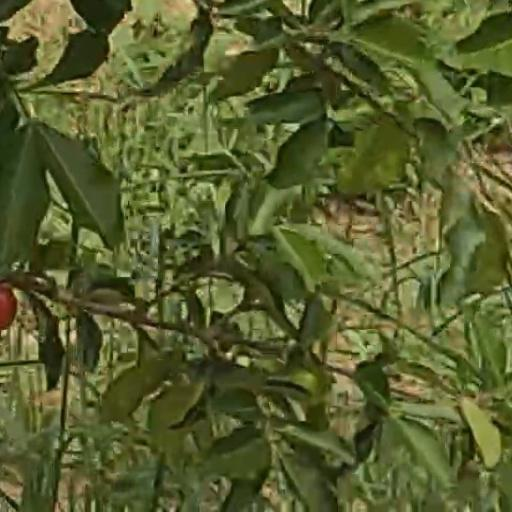acerola: (1, 290, 16, 328)
